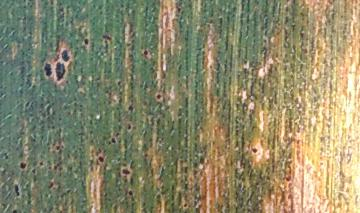tarspot: (53, 62, 68, 80), (41, 59, 54, 79), (58, 47, 72, 62), (140, 47, 153, 61), (12, 182, 22, 198), (119, 166, 133, 177), (18, 160, 29, 173), (154, 91, 165, 104), (125, 103, 136, 115), (101, 32, 112, 44), (250, 145, 261, 156), (96, 154, 106, 165), (125, 187, 134, 199), (125, 122, 134, 133), (111, 134, 118, 148), (82, 37, 91, 47), (9, 207, 21, 213)
